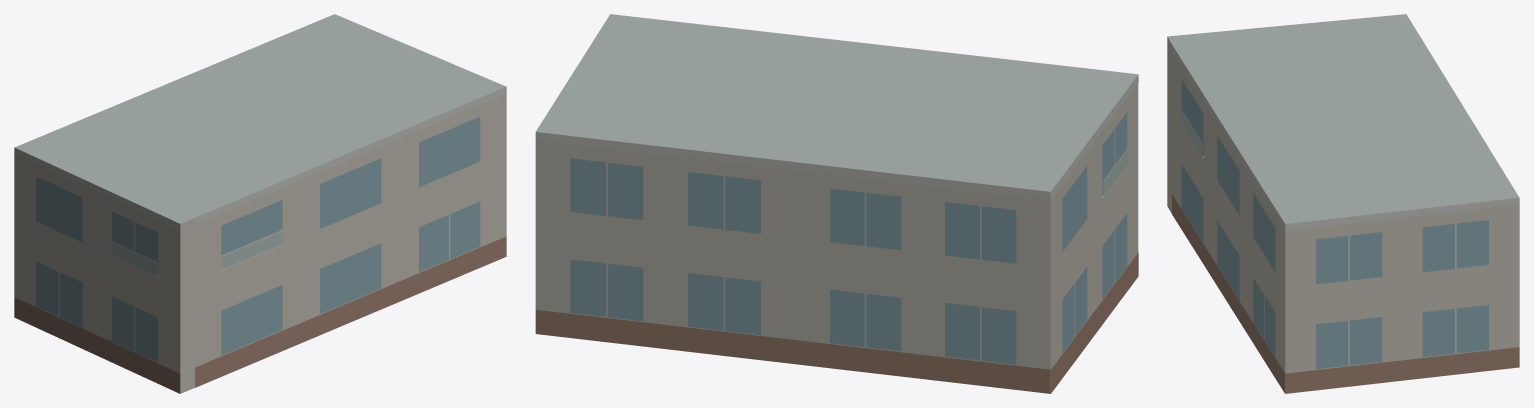
The model's file is survey-upis-32884860.glb.
The picture shows the model from 3 angles, left to right: view 1: azimuth 30°, elevation 25°; view 2: azimuth 150°, elevation 25°; view 3: azimuth 270°, elevation 25°; orthographic projection. The views are drawn at different scales.
Visible parts, largest first — view 1: survey-upis-32884860.tmp; view 2: survey-upis-32884860.tmp; view 3: survey-upis-32884860.tmp.
Part boxes in pixels (x1=…): survey-upis-32884860.tmp: x1=14, y1=14, x2=506, y2=393; survey-upis-32884860.tmp: x1=535, y1=14, x2=1138, y2=393; survey-upis-32884860.tmp: x1=1167, y1=14, x2=1519, y2=393.
Size of the model in its own units: 16.21 by 6.1 by 11.48.
